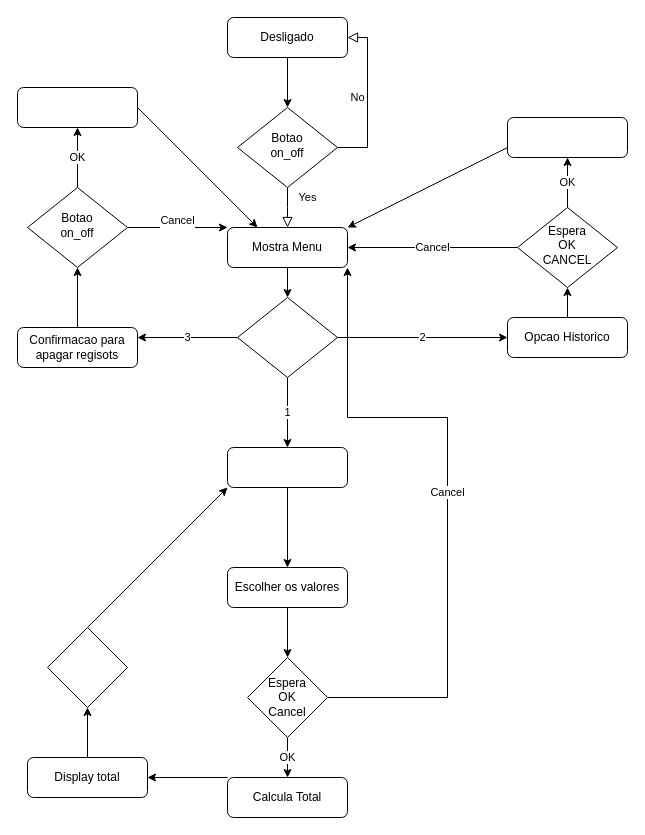
This 645x835 diagram has some shape labels left out. Each missing label, with the centre of its shape:
"Apaga Registos" belongs at point 77,107.
"Balanca" belongs at point 287,467.
"Espera OK" belongs at point 87,667.
"Loop Para Mostra Historico" belongs at point 567,137.
"Select Option" belongs at point 287,337.
